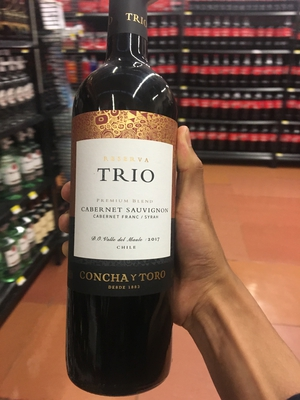trio cabernet sauvignon: (63, 27, 194, 400)
